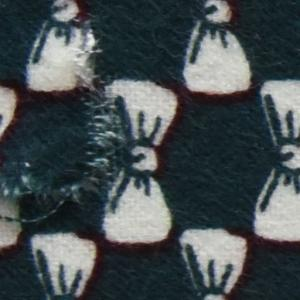Damage: (1, 1, 131, 226)
